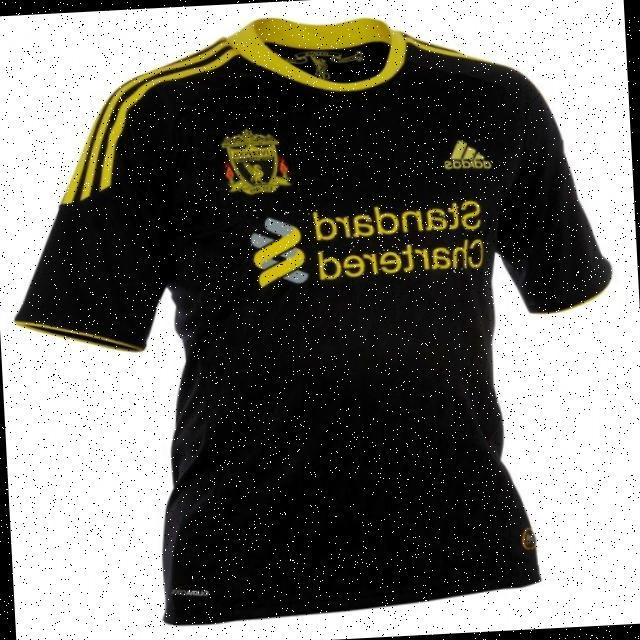Adidas: (442, 136, 494, 171)
Standard Chartered: (249, 197, 491, 287)
